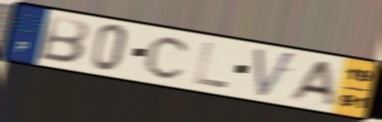0: (91, 24, 133, 75)
A: (284, 59, 338, 107)
B: (35, 14, 92, 65)
C: (142, 34, 194, 81)
L: (192, 41, 229, 91)
V: (252, 46, 299, 101)
